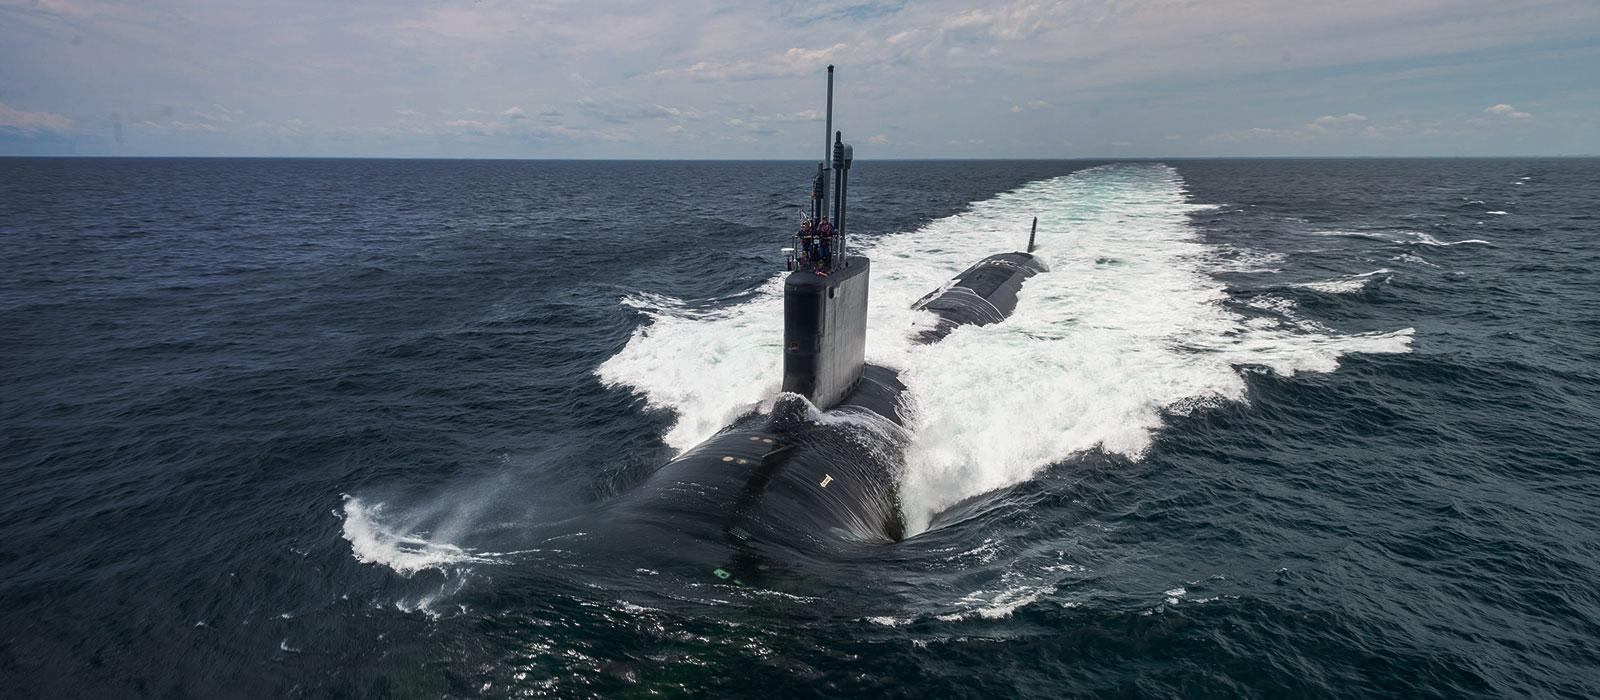Submarine: (446, 28, 1346, 700)
